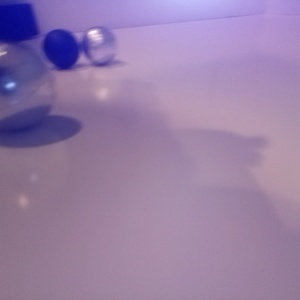alive_ball: (156, 52, 300, 217)
dead_ball: (129, 26, 176, 78), (1, 24, 18, 90)
